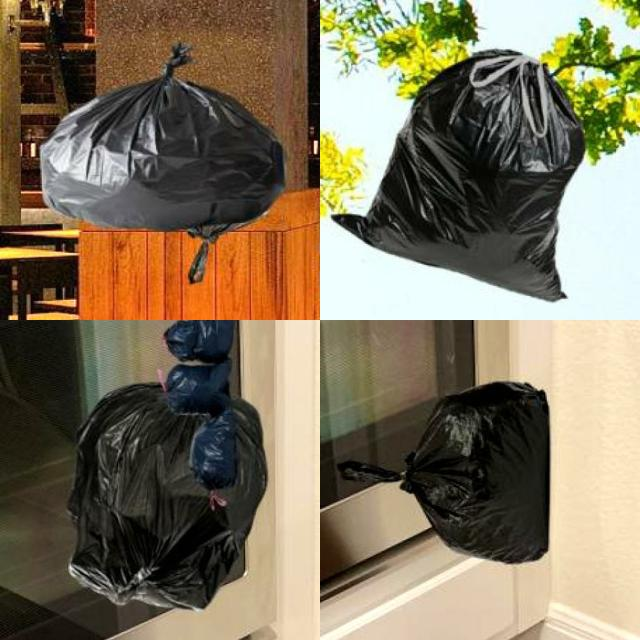Single-layer Plastic: (332, 50, 584, 301), (41, 42, 284, 284), (69, 320, 268, 610), (338, 381, 550, 562)
